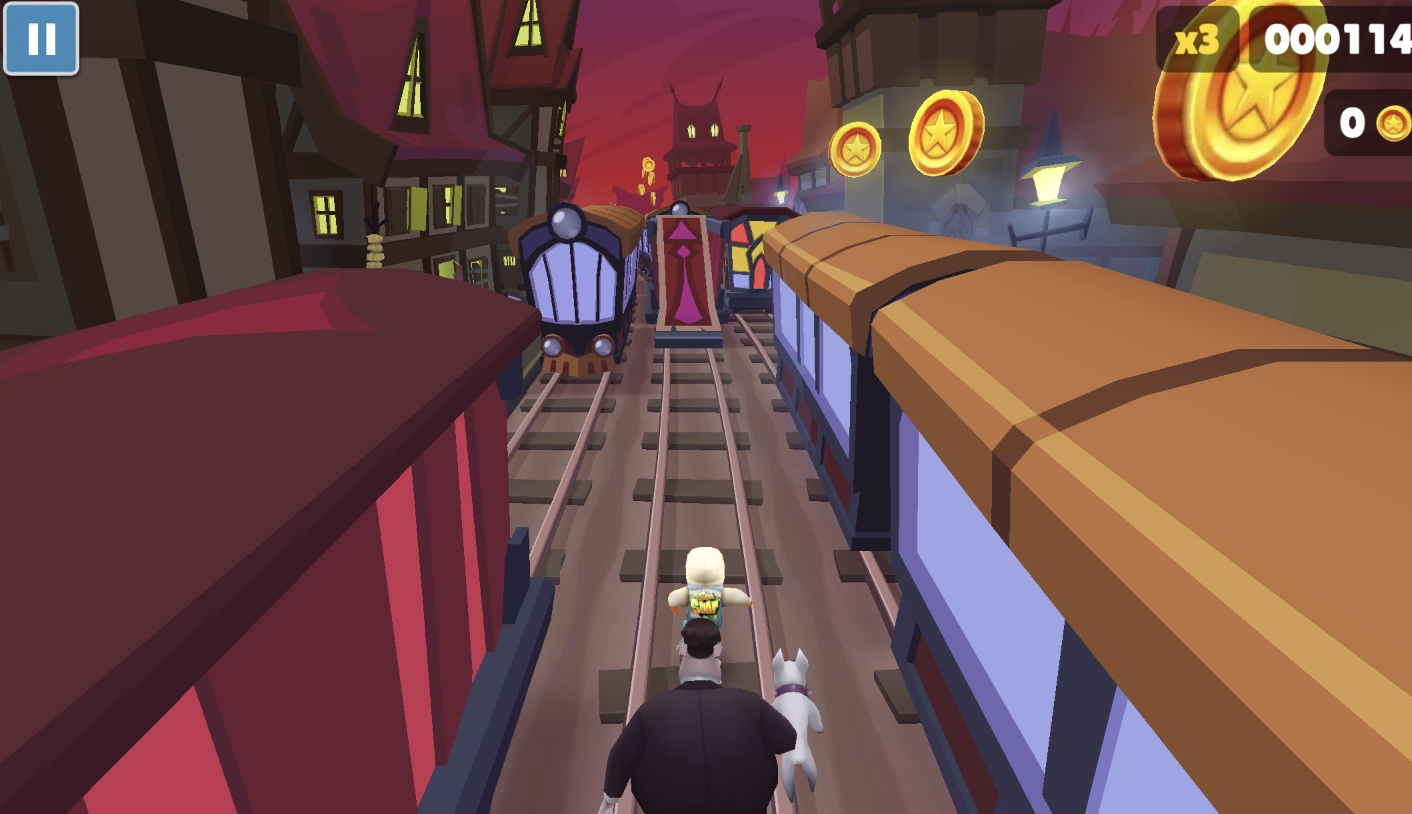train: (763, 213, 1412, 814), (0, 279, 524, 814), (506, 203, 647, 383), (643, 200, 730, 352), (715, 207, 818, 318)
